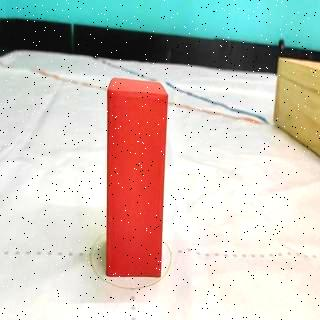redbox: (106, 78, 169, 278)
